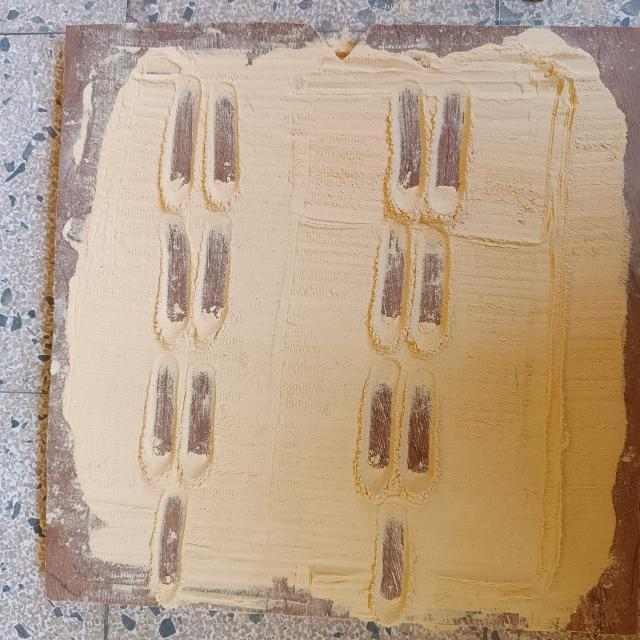double: (382, 79, 474, 224), (364, 227, 460, 357), (354, 364, 440, 502), (156, 84, 244, 210), (136, 358, 224, 484), (153, 218, 234, 348)
single: (366, 506, 417, 621), (147, 490, 193, 606)
